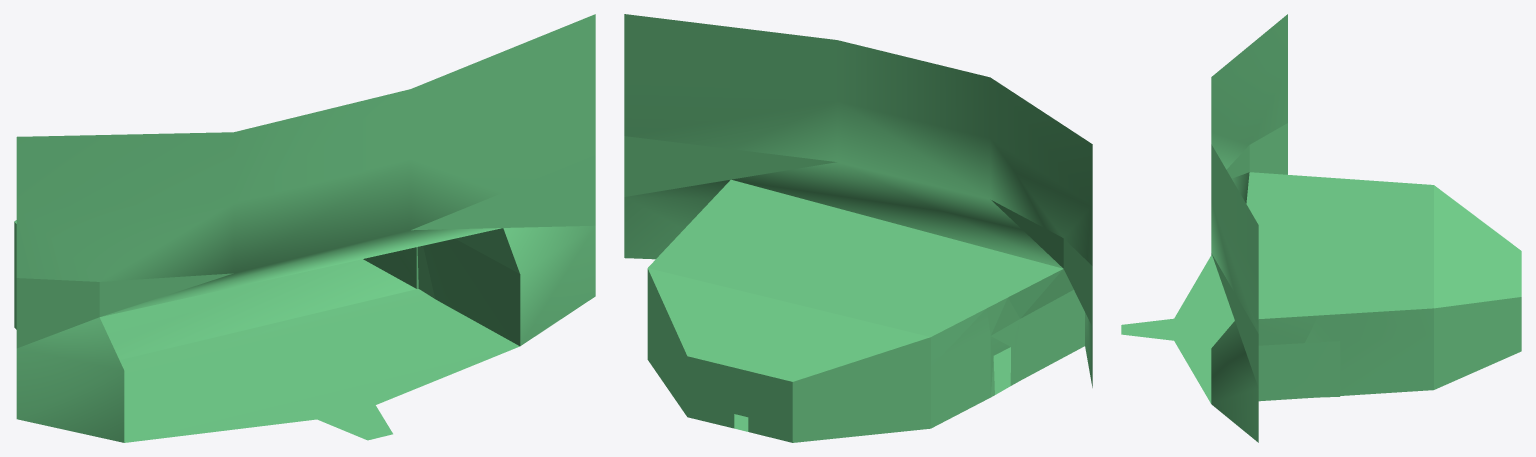
File: BlockingCave.fbx
3 renders of one model, left to right at view 1: azimuth 30°, elevation 25°; view 2: azimuth 150°, elevation 25°; view 3: azimuth 270°, elevation 25°, orthographic. The views are drawn at different scales.
Visible parts, largest first — view 1: IsleInferiorP2, IsleInferiorP1; view 2: IsleInferiorP2, IsleInferiorP1; view 3: IsleInferiorP2, IsleInferiorP1.
Part boxes in pixels (box(x1,y1,x2,y2)): IsleInferiorP2: box(14, 14, 595, 317); IsleInferiorP1: box(14, 155, 595, 442); IsleInferiorP2: box(624, 14, 1092, 381); IsleInferiorP1: box(624, 136, 1092, 442); IsleInferiorP2: box(1211, 14, 1521, 333); IsleInferiorP1: box(1121, 123, 1521, 442).
Size of the model in its own units: 10381 by 5030 by 8324.
